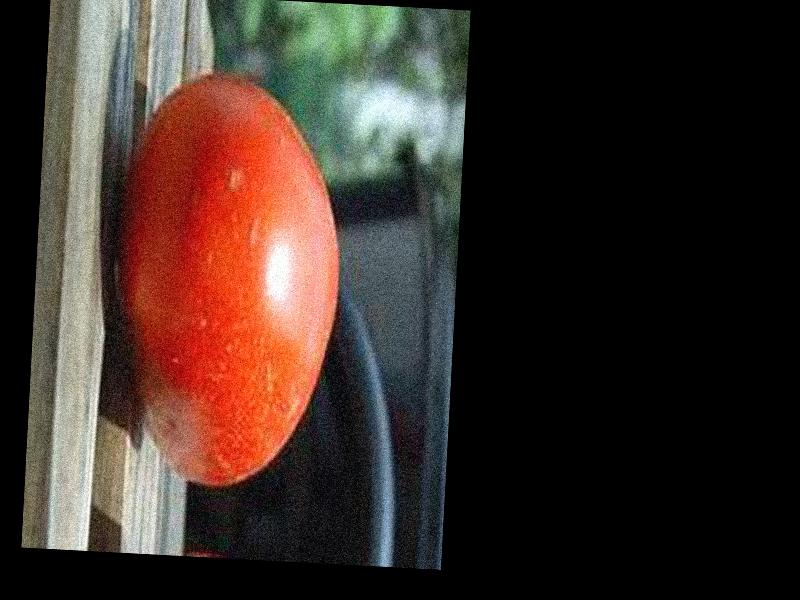Tomato: (110, 67, 350, 491)
